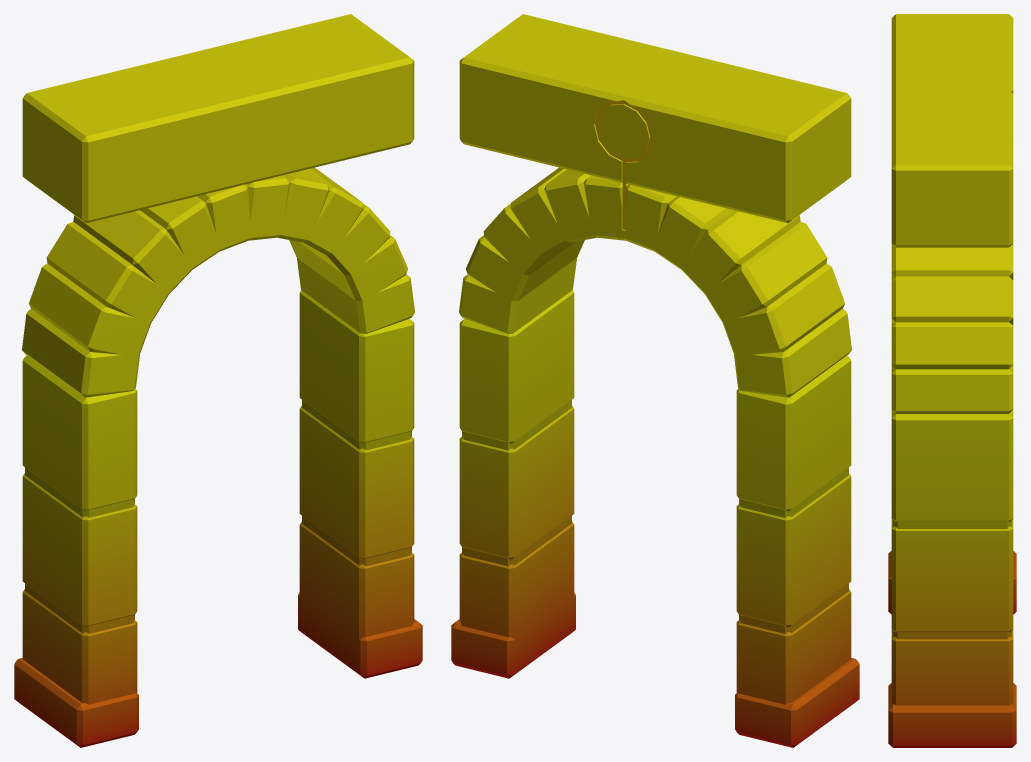
File: door.glb
The picture shows the model from 3 angles, left to right: view 1: azimuth 30°, elevation 25°; view 2: azimuth 150°, elevation 25°; view 3: azimuth 270°, elevation 25°; orthographic projection. The views are drawn at different scales.
Visible parts, largest first — view 1: door; view 2: door; view 3: door.
Boxes of the visible parts, bbox=[...] form: door: bbox=[14, 14, 422, 747]; door: bbox=[451, 14, 859, 747]; door: bbox=[888, 14, 1016, 747].
Size of what is drawn, in the model's own units: 2.5 by 4.2 by 0.84.
